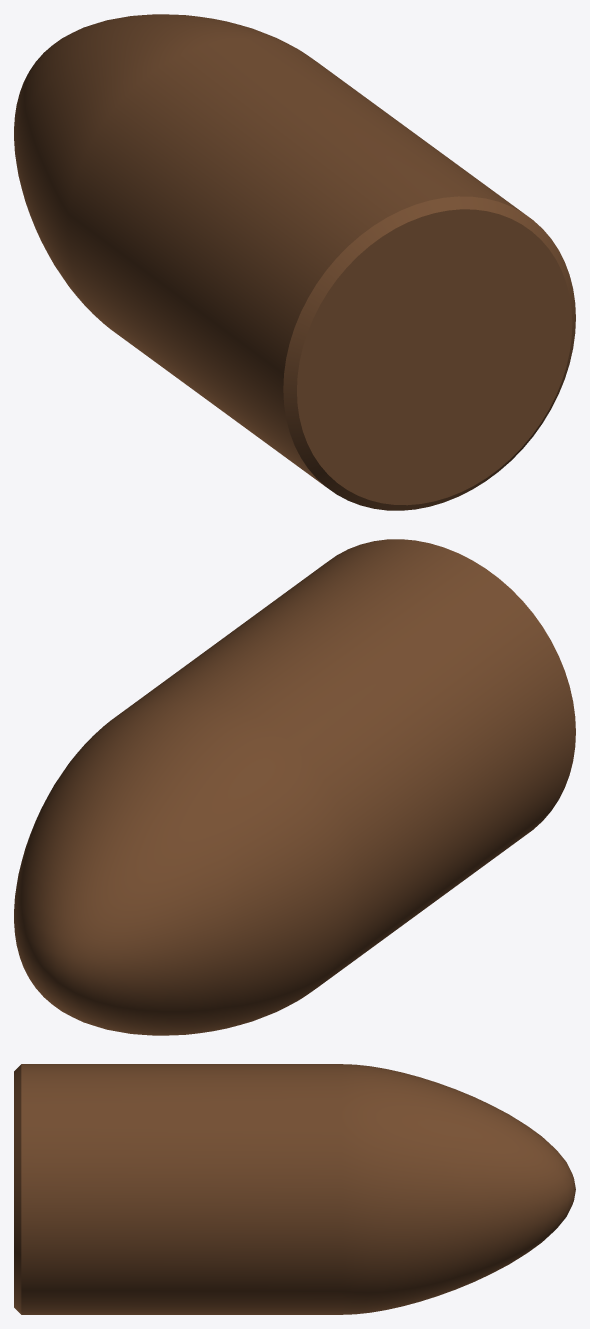
The model's file is bullet.fbx.
The picture shows the model from 3 angles, top to bottom: view 1: azimuth 30°, elevation 25°; view 2: azimuth 150°, elevation 25°; view 3: azimuth 270°, elevation 25°; orthographic projection. The views are drawn at different scales.
Visible parts, largest first — view 1: Bullet; view 2: Bullet; view 3: Bullet.
Part boxes in pixels (bbox=[...]): Bullet: bbox=[14, 14, 575, 510]; Bullet: bbox=[14, 539, 575, 1035]; Bullet: bbox=[14, 1064, 575, 1314].
Bounding box in the file's own units: 346 × 775 × 346.
